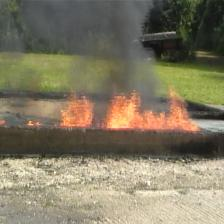fire: (106, 87, 200, 132), (61, 87, 94, 127)
